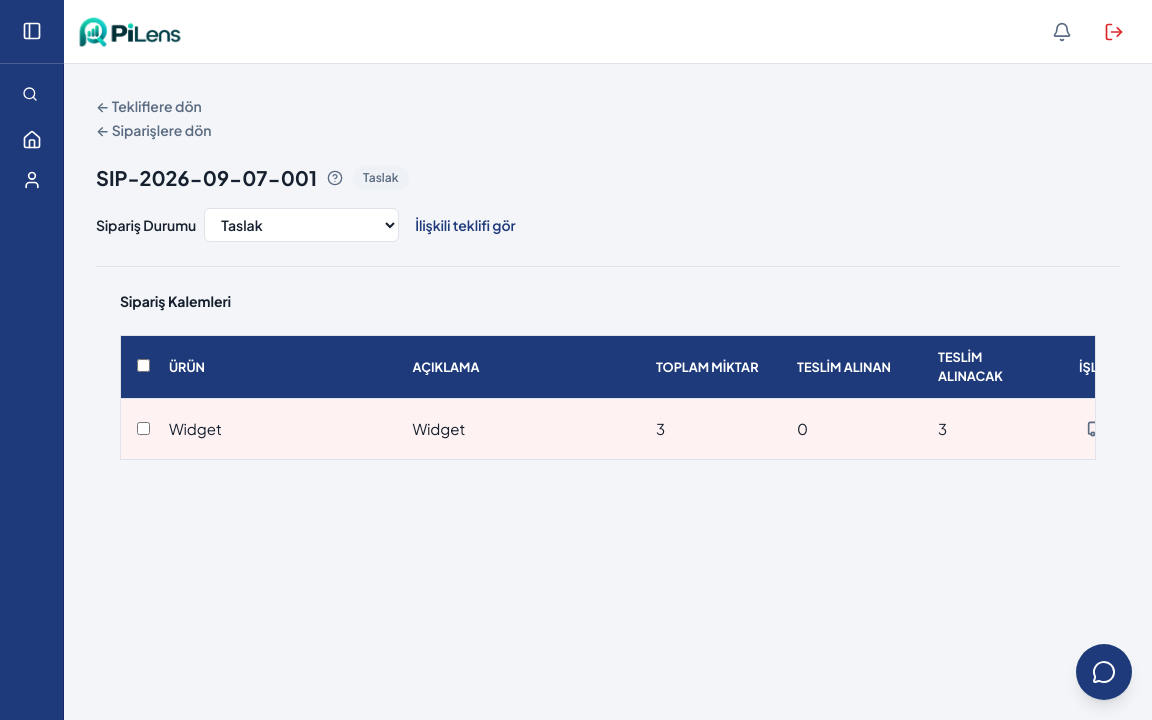
Test: PurchaseOrderDetailPage › teklif linkine tiklayinca teklif onizleme modalini acar
Click the button "İlişkili teklifi gör". click: point(466, 225)
box: [415,215,516,235]
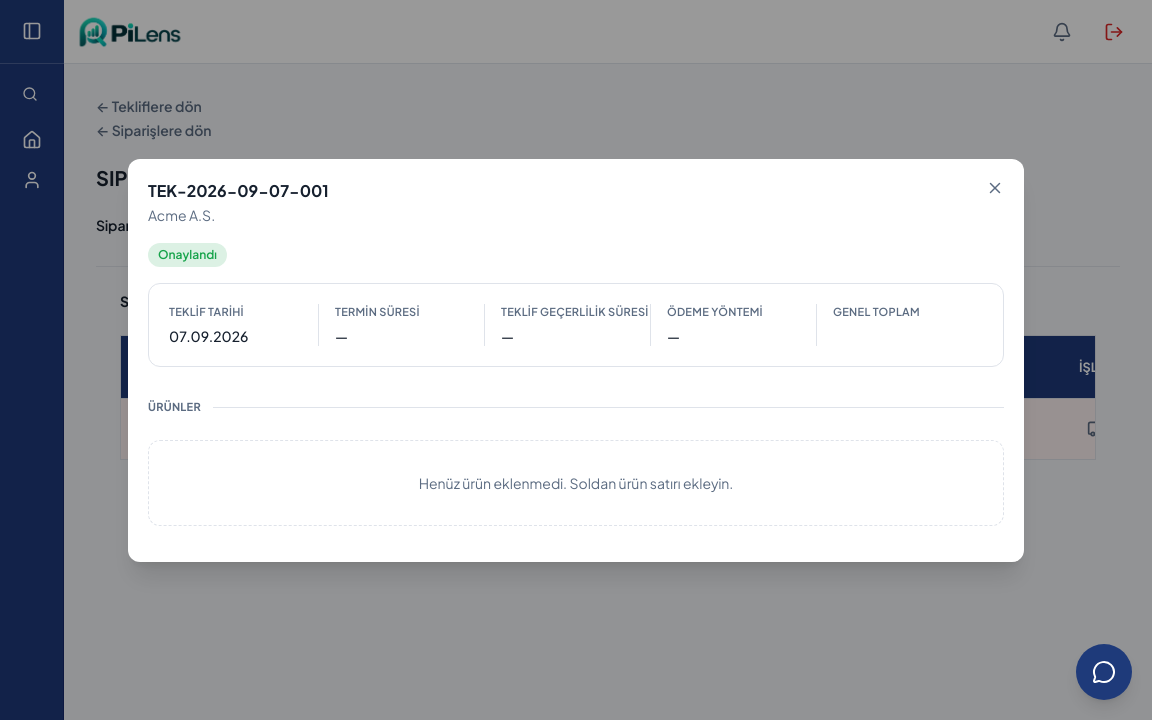
Result: the heading "TEK-2026-09-07-001" is shown at [148,178,329,202]
